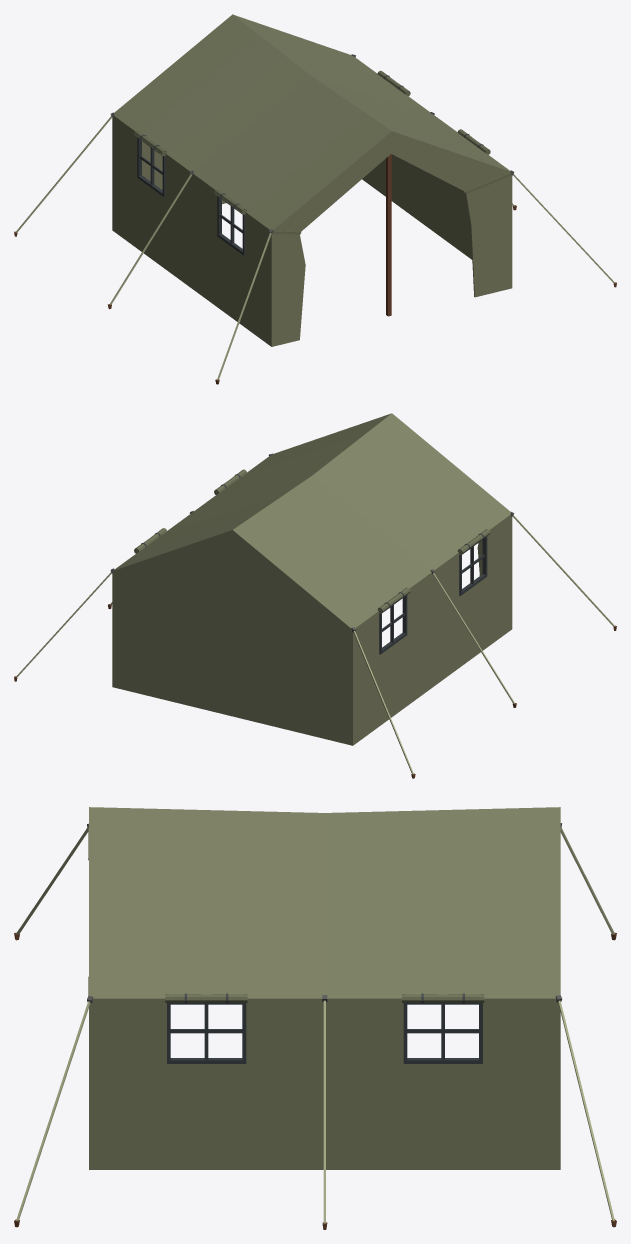
Rendered from Tent_07.fbx.
The picture shows the model from 3 angles, top to bottom: view 1: azimuth 30°, elevation 25°; view 2: azimuth 150°, elevation 25°; view 3: azimuth 270°, elevation 25°; orthographic projection. The views are drawn at different scales.
Parts seen in each view (by area): view 1: Tent_07; view 2: Tent_07; view 3: Tent_07.
Boxes of the visible parts, x1,y1,x2,y2 form: Tent_07: (14, 14, 616, 384); Tent_07: (14, 413, 616, 778); Tent_07: (14, 807, 616, 1229).
Bounding box in the file's own units: 656 × 287 × 569.
